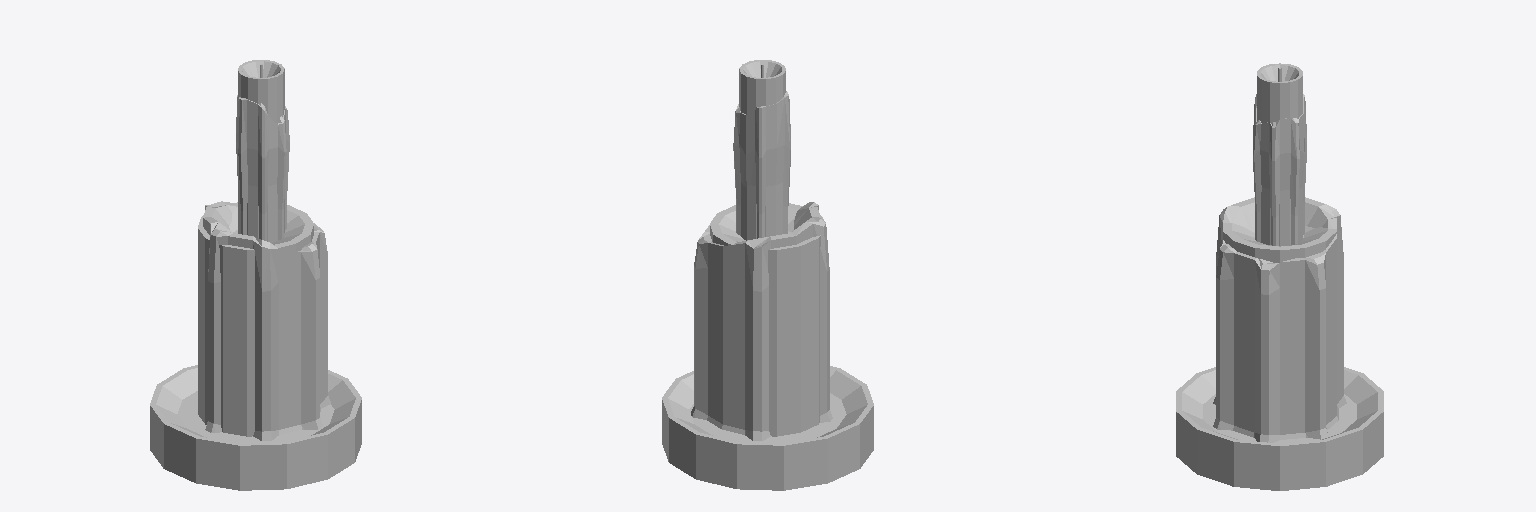
Rendered from CandleSubstance.obj.
3 views of the same model, side by side, from view 1: azimuth 30°, elevation 25°; view 2: azimuth 150°, elevation 25°; view 3: azimuth 270°, elevation 25° (orthographic).
Visible parts, largest first — view 1: Candles CandleBurnt_001, Candles CandleHolder_001, Candle_001 Candles, Candles CandleBurnt_002, Candles Candle_002; view 2: Candles CandleBurnt_001, Candles CandleHolder_001, Candle_001 Candles, Candles CandleBurnt_002, Candles Candle_002; view 3: Candles CandleBurnt_001, Candles CandleHolder_001, Candles CandleBurnt_002, Candles Candle_002, Candle_001 Candles.
Part boxes in pixels (left/top/right/bottom): Candles CandleBurnt_001: left=203, top=201, right=330, bottom=440; Candles CandleHolder_001: left=150, top=365, right=361, bottom=490; Candle_001 Candles: left=198, top=202, right=313, bottom=436; Candles CandleBurnt_002: left=236, top=95, right=289, bottom=240; Candles Candle_002: left=238, top=60, right=284, bottom=242; Candles CandleBurnt_001: left=691, top=202, right=832, bottom=440; Candles CandleHolder_001: left=662, top=366, right=873, bottom=490; Candle_001 Candles: left=710, top=203, right=823, bottom=436; Candles CandleBurnt_002: left=733, top=91, right=790, bottom=238; Candles Candle_002: left=739, top=60, right=785, bottom=240; Candles CandleBurnt_001: left=1213, top=197, right=1346, bottom=442; Candles CandleHolder_001: left=1176, top=367, right=1383, bottom=490; Candles CandleBurnt_002: left=1253, top=94, right=1306, bottom=245; Candles Candle_002: left=1257, top=63, right=1302, bottom=245; Candle_001 Candles: left=1223, top=223, right=1336, bottom=262.
Size of the model in its own units: 13.54 by 26.71 by 13.2.